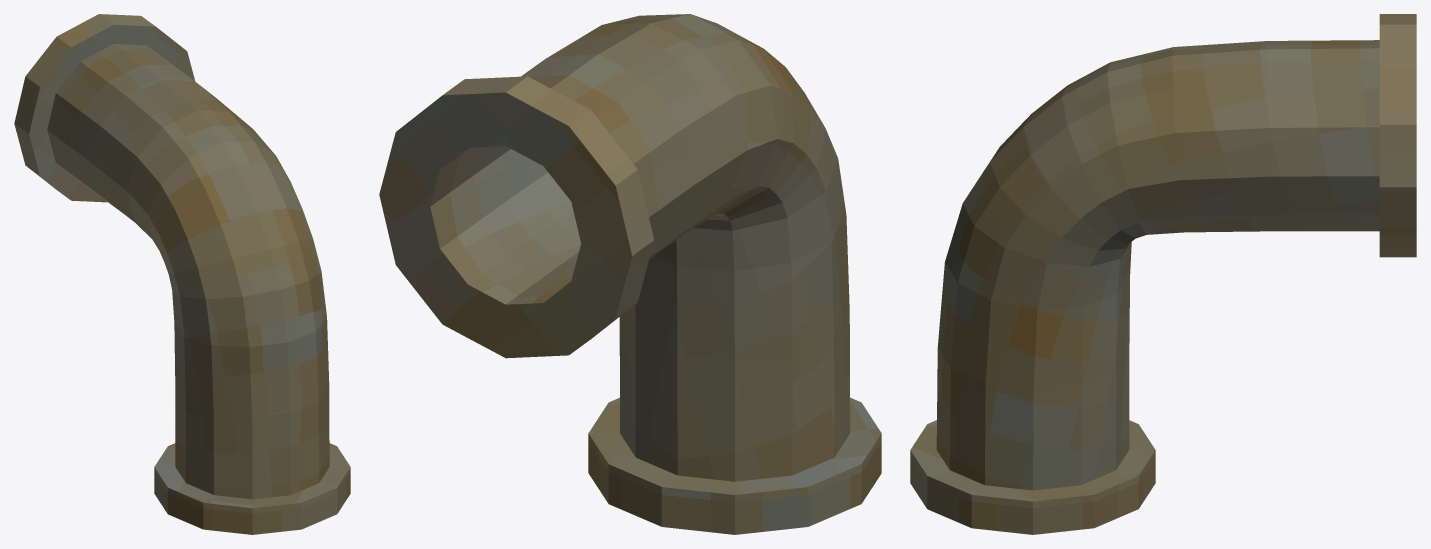
The model's file is pipe_bend.fbx.
3 views of the same model, side by side, from view 1: azimuth 30°, elevation 25°; view 2: azimuth 150°, elevation 25°; view 3: azimuth 270°, elevation 25° (orthographic). The views are drawn at different scales.
Parts seen in each view (by area): view 1: pipe_bend; view 2: pipe_bend; view 3: pipe_bend.
Part boxes in pixels (<box>): pipe_bend: <box>14,14,350,534</box>; pipe_bend: <box>379,14,881,534</box>; pipe_bend: <box>910,14,1416,534</box>.
Size of the model in its own units: 211 by 438 by 438.
